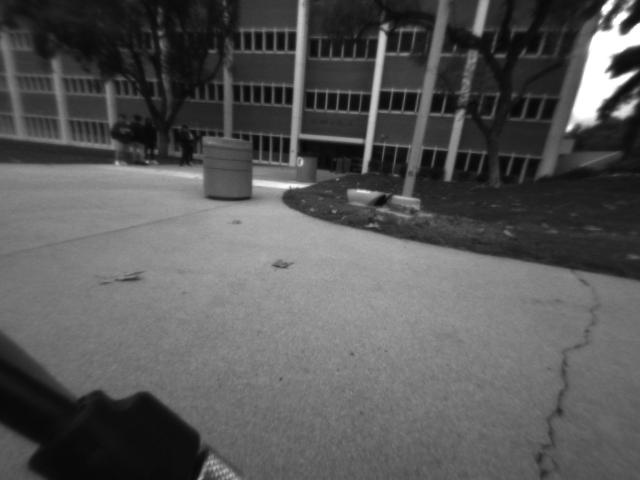trashcan: (194, 127, 259, 206), (290, 146, 320, 187)
